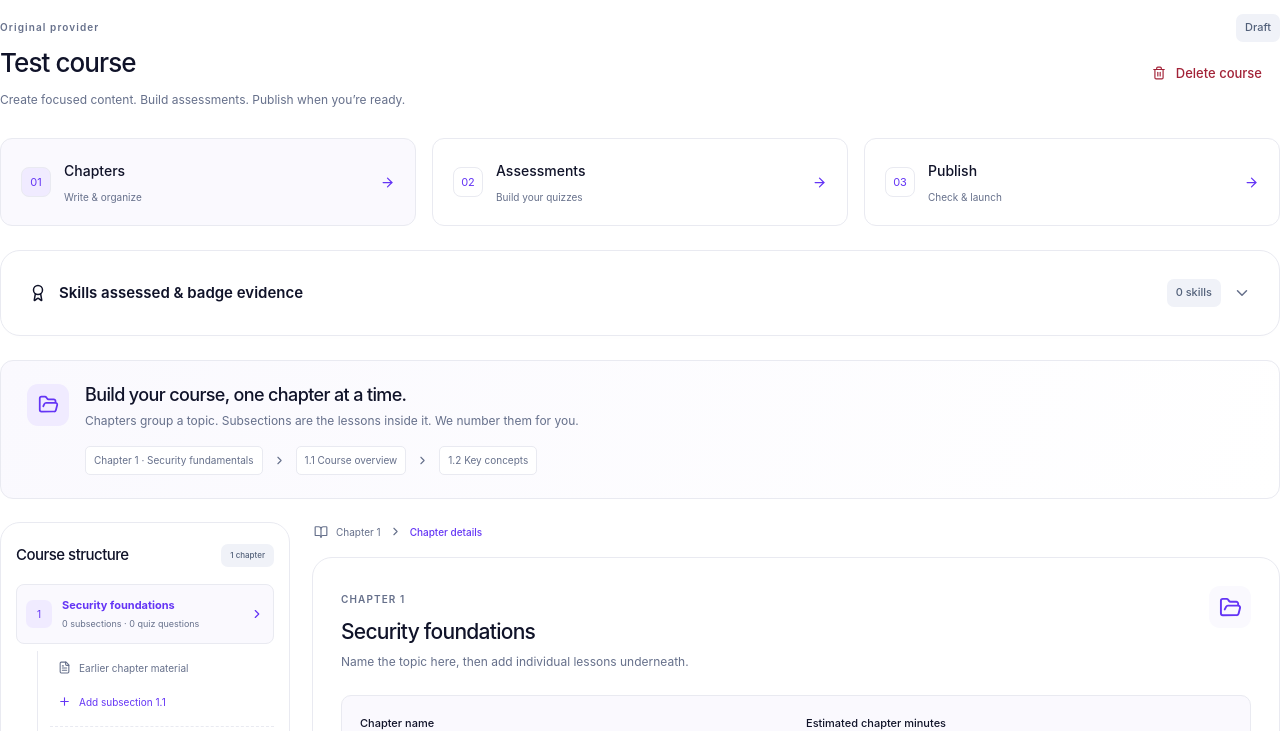
Scenario: PDF and video learning materials › explains that completion badges are generated automatically
This screenshot has width=1280, height=731.
Click the button "03 Publish Check & launch": (953, 171) left=864, top=138, right=1279, bottom=226
(page scrolled)
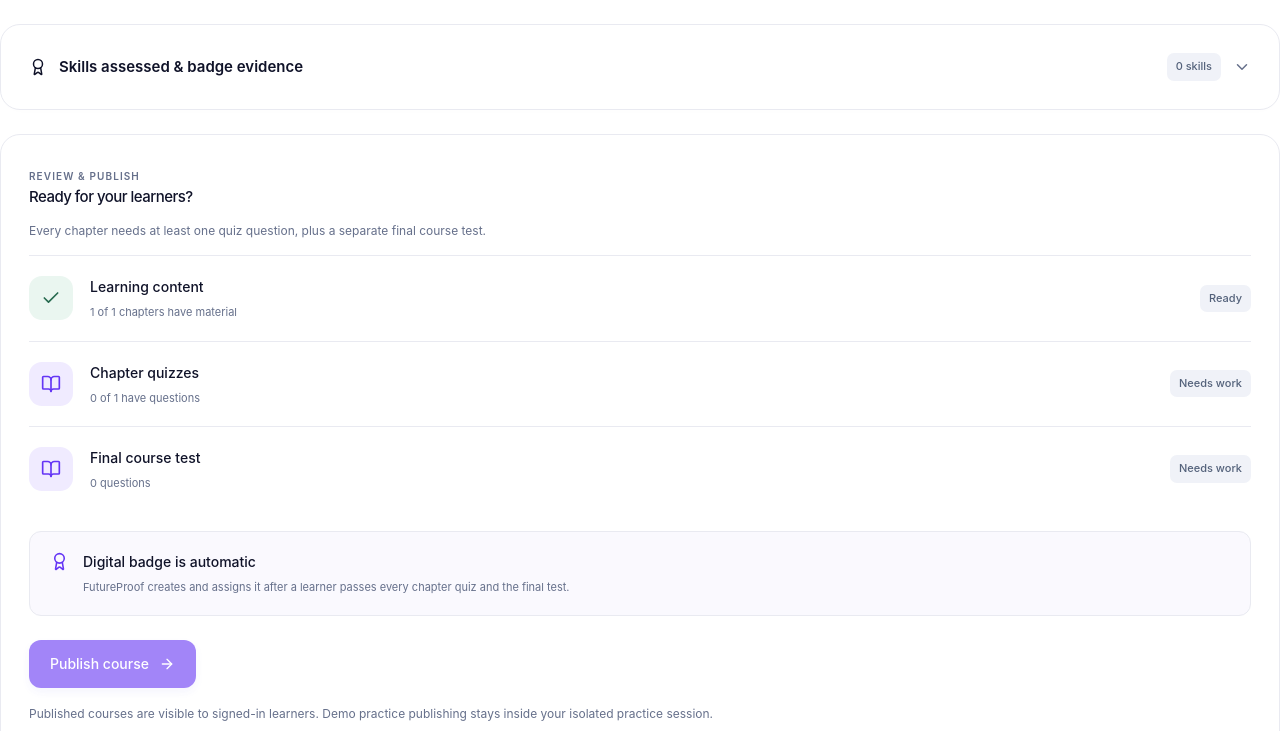
Expected: the text "creates and assigns it after a learner passes every chapter quiz and the final test" is shown, left=83, top=580, right=570, bottom=594
Expected: the element that starts with "Digital badge is automatic" is shown, left=83, top=553, right=256, bottom=570
